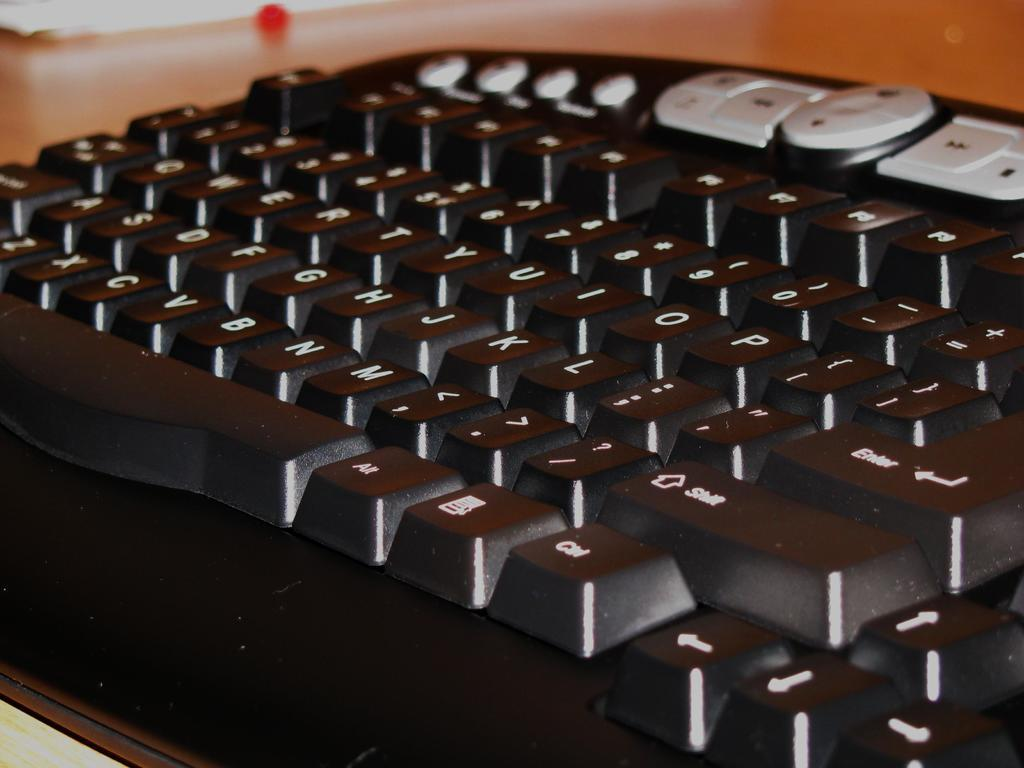Computer-keyboard: (0, 45, 1023, 767)
